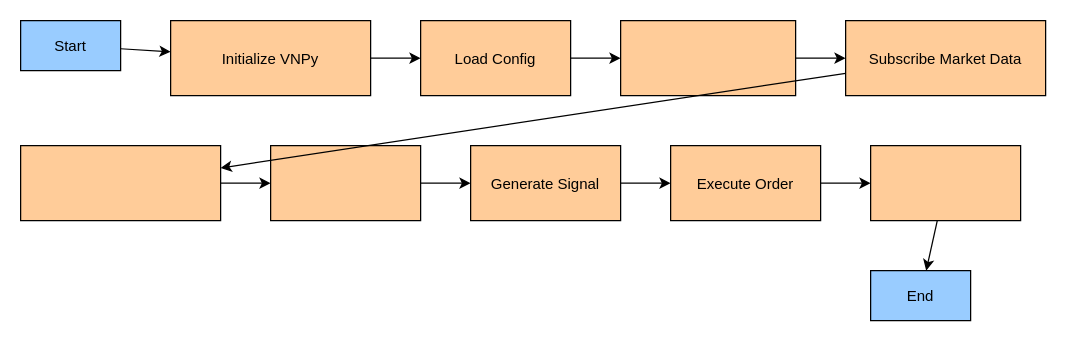
Image size: 1066x341. Some labels were removed from this diagram. The box of each missing label's shape, as (x1, y1, x2, y2) in pixels:
Connect Gateway: (619, 19, 796, 96)
Data Processing: (269, 144, 421, 221)
Risk Management: (869, 144, 1021, 221)
Strategy Initialization: (19, 144, 221, 221)
